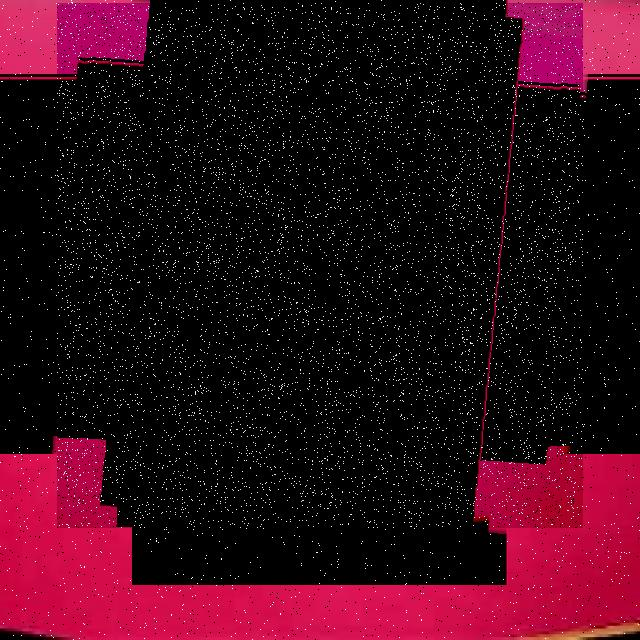dua ribu rupiah: (57, 3, 583, 528)
